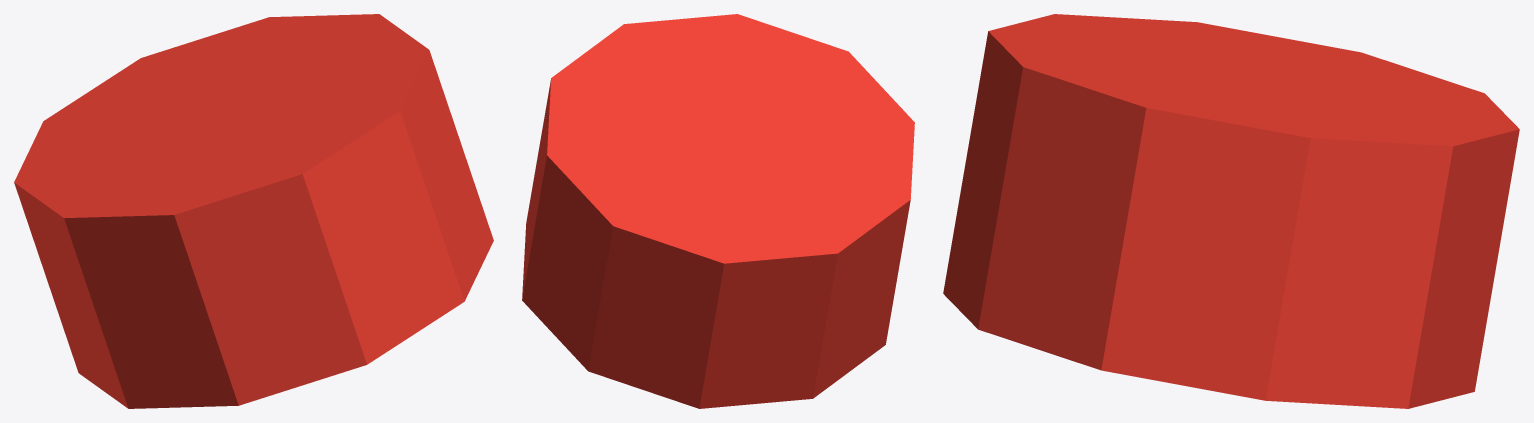
File: group232990380_lev3.glb
3 renders of one model, left to right at view 1: azimuth 30°, elevation 25°; view 2: azimuth 150°, elevation 25°; view 3: azimuth 270°, elevation 25°, orthographic. The views are drawn at different scales.
Parts seen in each view (by area): view 1: group232990380_lev3; view 2: group232990380_lev3; view 3: group232990380_lev3.
Boxes of the visible parts, left/top/right/bottom form: group232990380_lev3: left=14, top=14, right=493, bottom=408; group232990380_lev3: left=522, top=14, right=914, bottom=408; group232990380_lev3: left=943, top=14, right=1519, bottom=408.
Bounding box in the file's own units: 0.5923 × 0.4232 × 0.5848.
